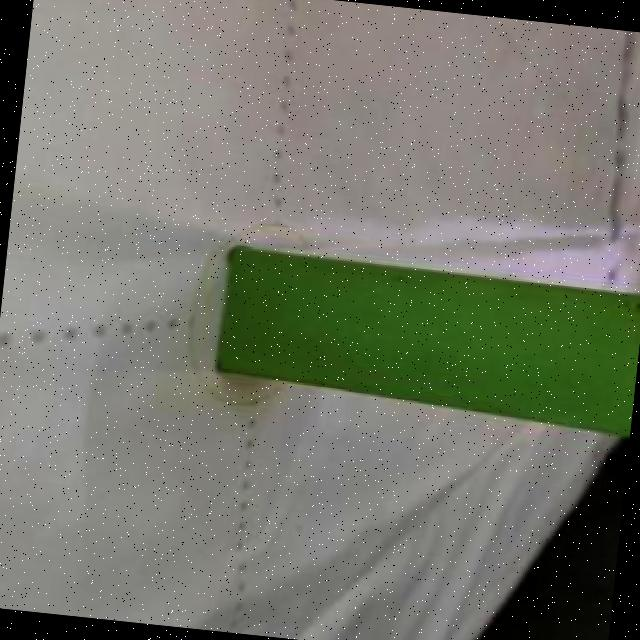greenbox: (209, 244, 640, 438)
